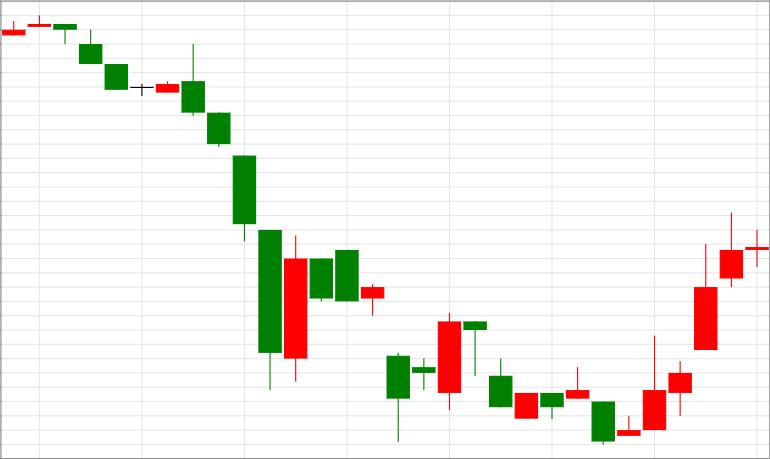inverse_hammer_rise: (54, 23, 205, 117)
shooting_star_fall: (617, 212, 743, 437)
